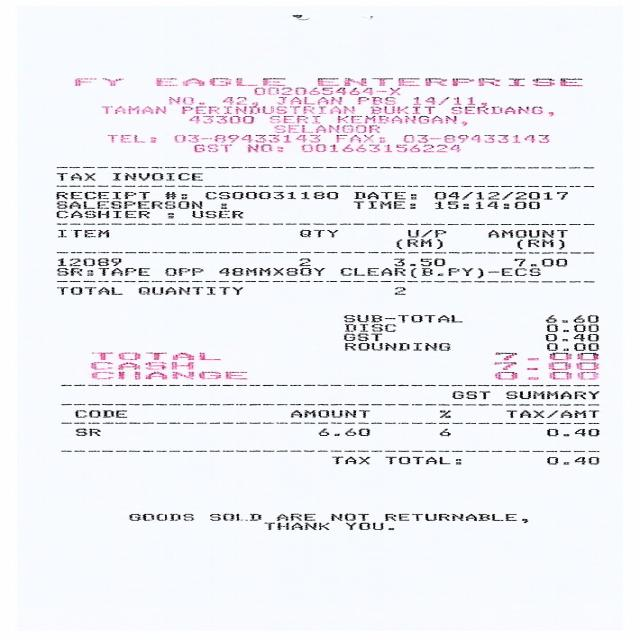text: (310, 76, 582, 89), (336, 267, 482, 279), (185, 105, 357, 114), (250, 86, 401, 96), (53, 199, 200, 209), (87, 371, 250, 380), (296, 143, 458, 152), (155, 77, 286, 88), (204, 190, 339, 200), (382, 512, 517, 522), (169, 134, 320, 142), (342, 313, 461, 323), (89, 352, 218, 361), (272, 124, 382, 134), (336, 115, 457, 124), (434, 191, 569, 199), (134, 286, 242, 296), (219, 266, 323, 276), (402, 135, 548, 142), (86, 361, 198, 370), (488, 362, 598, 371), (341, 342, 449, 351), (492, 351, 599, 360), (491, 371, 598, 380), (504, 390, 598, 400), (452, 105, 544, 115), (49, 190, 150, 199), (430, 200, 540, 208), (55, 210, 150, 219), (109, 171, 202, 180), (505, 409, 596, 418), (52, 257, 123, 267), (52, 226, 111, 238), (274, 96, 344, 106), (123, 512, 193, 522), (55, 286, 123, 296), (286, 409, 368, 417), (342, 322, 395, 333), (485, 229, 568, 236), (103, 105, 167, 114), (207, 512, 264, 522), (265, 521, 328, 530), (407, 96, 477, 104), (188, 116, 257, 124), (542, 323, 603, 332), (350, 200, 404, 210), (94, 266, 148, 276), (542, 342, 596, 352), (544, 455, 598, 465), (70, 76, 123, 86), (370, 106, 436, 114), (262, 115, 320, 124), (510, 257, 568, 266), (314, 428, 372, 437), (542, 428, 600, 437), (382, 456, 447, 464), (71, 409, 128, 418), (390, 258, 449, 266), (54, 170, 98, 180), (544, 333, 598, 341), (105, 134, 148, 144), (188, 142, 231, 152), (351, 191, 404, 199), (448, 390, 490, 400), (274, 512, 316, 522), (326, 512, 368, 522), (191, 210, 242, 218), (496, 267, 541, 276), (404, 228, 444, 238), (353, 96, 396, 105), (327, 455, 370, 464), (334, 133, 376, 142), (544, 315, 598, 322), (164, 267, 205, 276), (164, 95, 197, 106), (242, 142, 272, 153), (296, 228, 337, 236), (340, 333, 381, 341), (343, 522, 383, 530), (219, 96, 250, 106), (526, 238, 554, 248), (54, 268, 81, 277), (75, 428, 99, 436), (293, 257, 312, 266), (406, 239, 427, 246), (435, 428, 451, 437), (391, 287, 407, 295), (436, 410, 451, 417)
